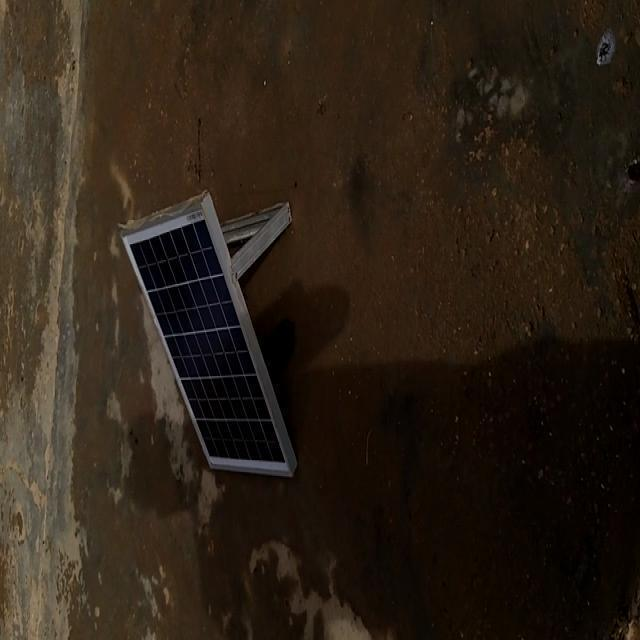Normal Solar Panel: (122, 191, 297, 477)
